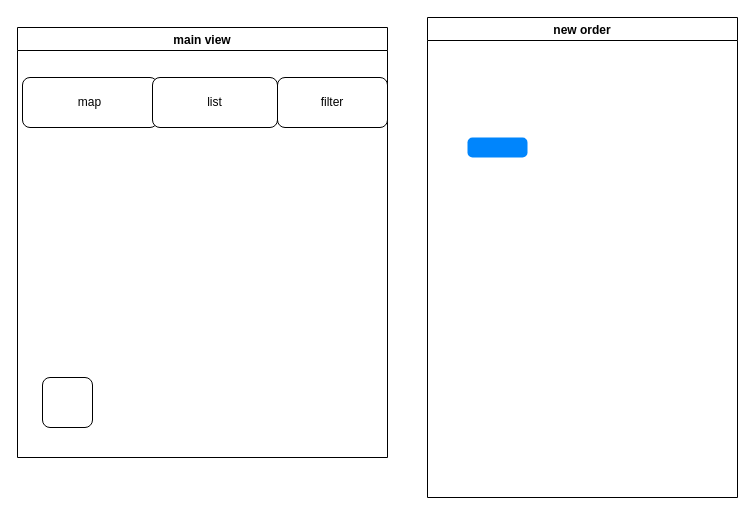
Image size: 755x515. Some labels were removed from this diagram. Each missing label, with the centre of its shape:
"account" goes at pixel 67 402.
"required" goes at pixel 497 147.
